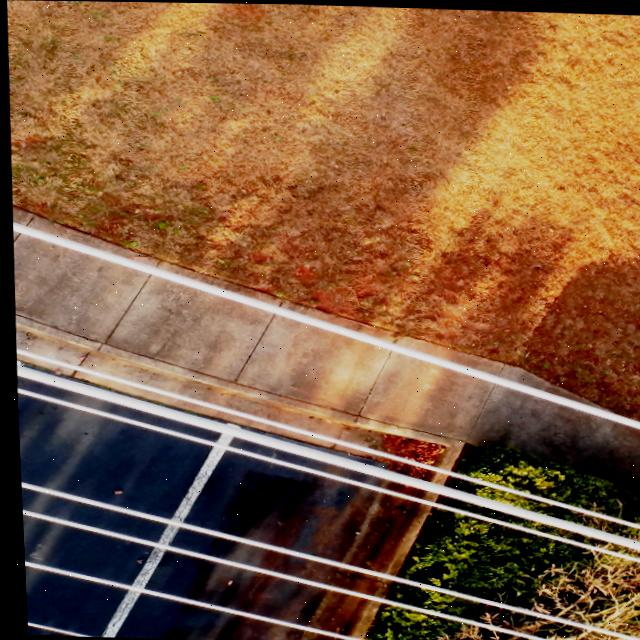wires: (10, 222, 640, 429), (13, 362, 640, 563), (12, 350, 640, 529), (17, 481, 640, 640), (20, 560, 365, 640), (557, 396, 640, 427)
